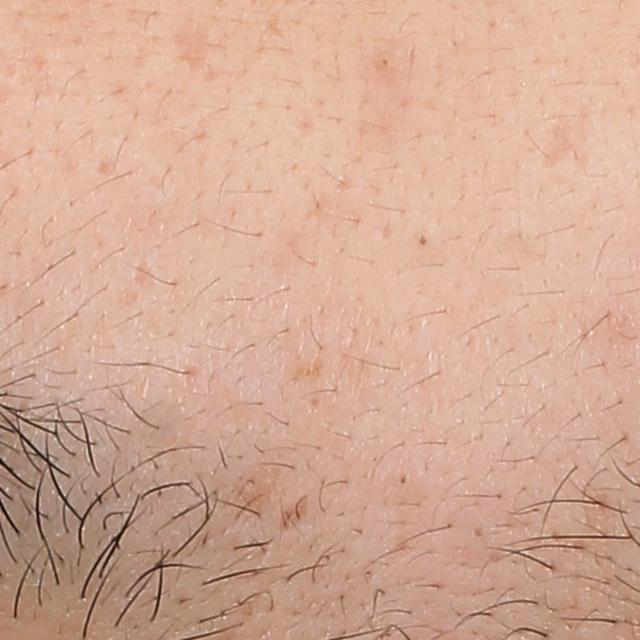atrophic_scar: (168, 8, 216, 73), (539, 120, 594, 170)
comedo: (395, 468, 412, 490), (412, 231, 432, 249), (376, 52, 391, 69)
